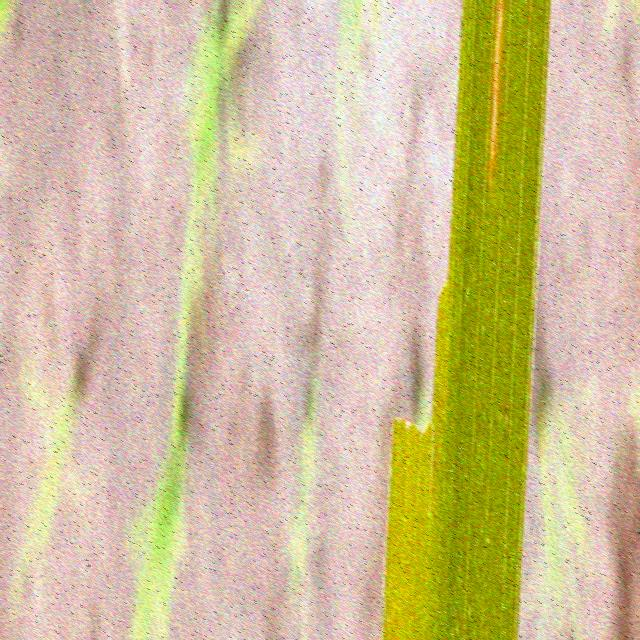BLS: (488, 0, 506, 189)
